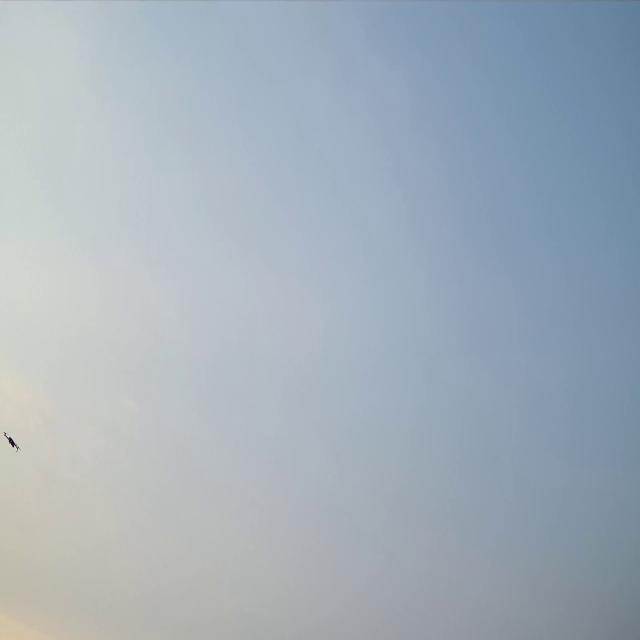UAV: (4, 432, 19, 450)
